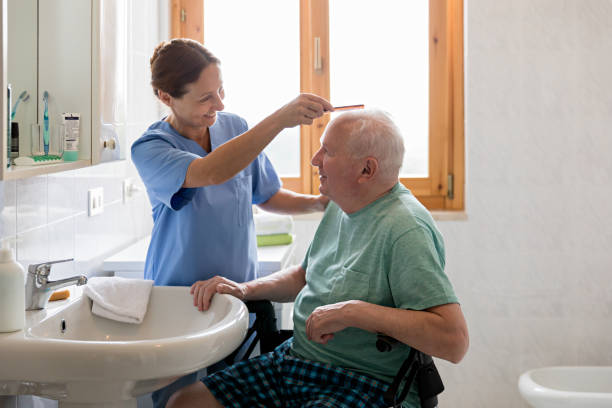dispenser: (1, 246, 26, 333)
faucet: (26, 259, 86, 312)
handle: (311, 34, 323, 72), (100, 140, 120, 151)
patient: (167, 110, 470, 407)
sink: (1, 275, 248, 408)
staff: (130, 39, 334, 408)
table: (101, 230, 298, 336)
toilet: (518, 366, 612, 408)
